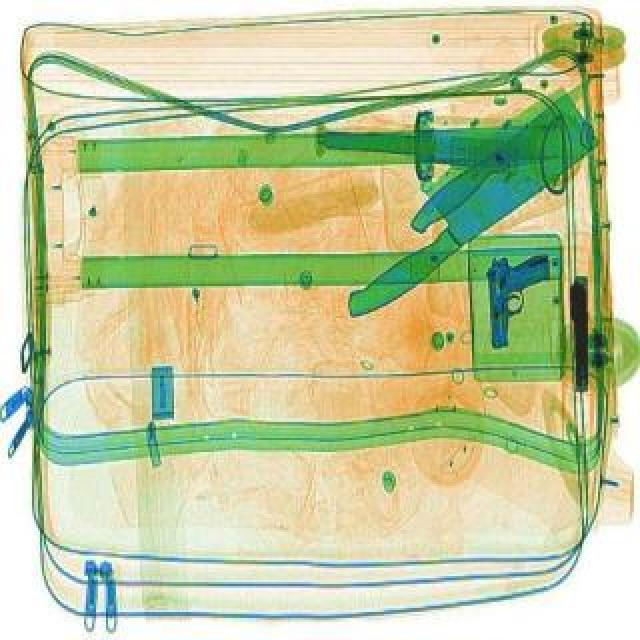gun: (486, 256, 560, 354), (568, 280, 594, 394)
knife: (312, 86, 612, 330), (404, 74, 604, 242), (324, 124, 552, 174)
